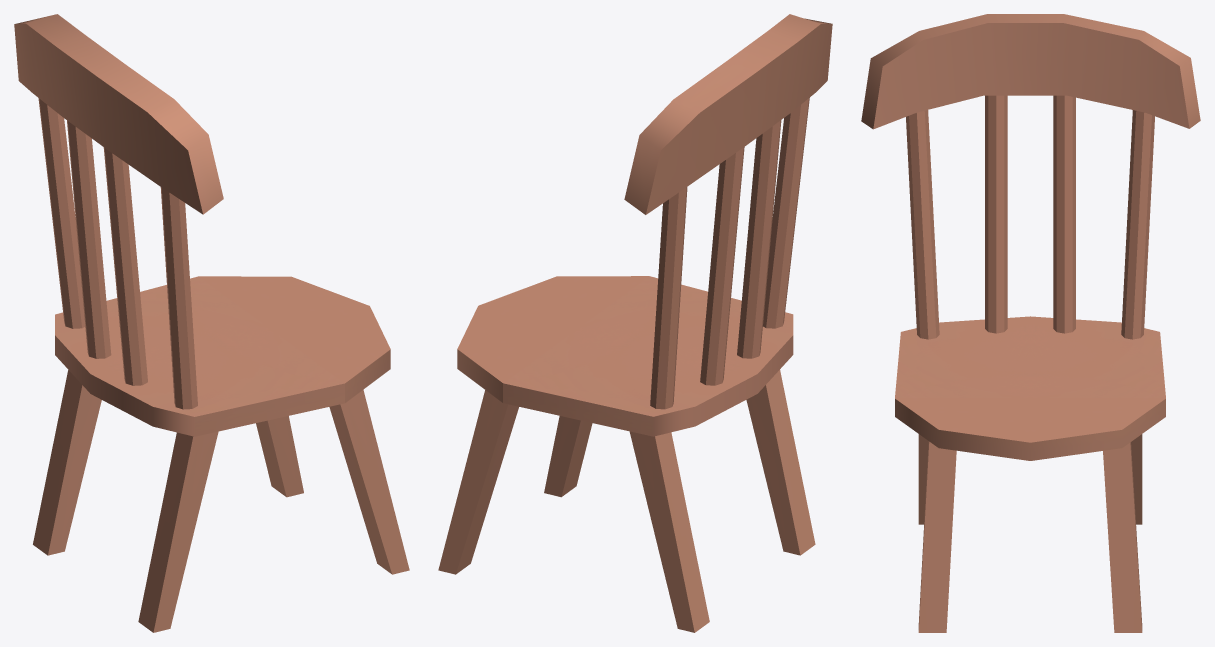
The model's file is chair1.fbx.
3 renders of one model, left to right at view 1: azimuth 30°, elevation 25°; view 2: azimuth 150°, elevation 25°; view 3: azimuth 270°, elevation 25°, orthographic. The views are drawn at different scales.
Visible parts, largest first — view 1: polySurface2.001; view 2: polySurface2.001; view 3: polySurface2.001.
Boxes of the visible parts, x1=… form: polySurface2.001: x1=14, y1=14, x2=409, y2=632; polySurface2.001: x1=438, y1=14, x2=832, y2=632; polySurface2.001: x1=861, y1=14, x2=1200, y2=632.
Size of the model in its own units: 470 by 816 by 504.
